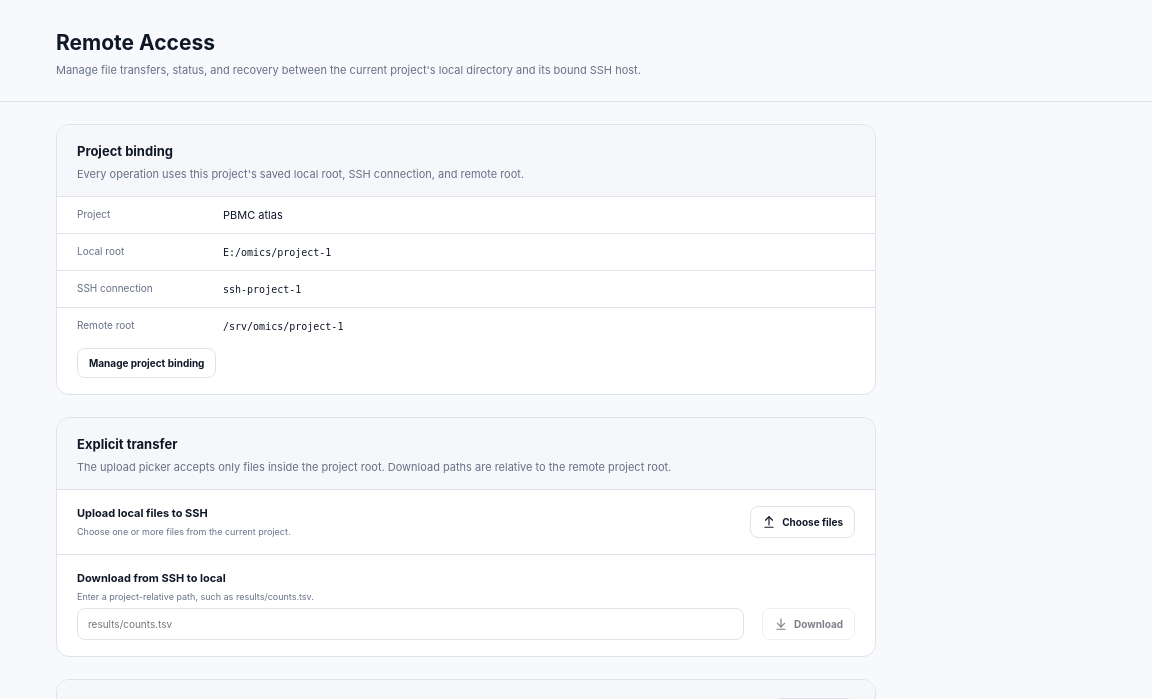
Test: RemoteAccessSettings › passes only the selected project's root and relative paths to upload
Click the button with aria-label "Choose project files to upload" at [803, 522], box [750,506,855,538]
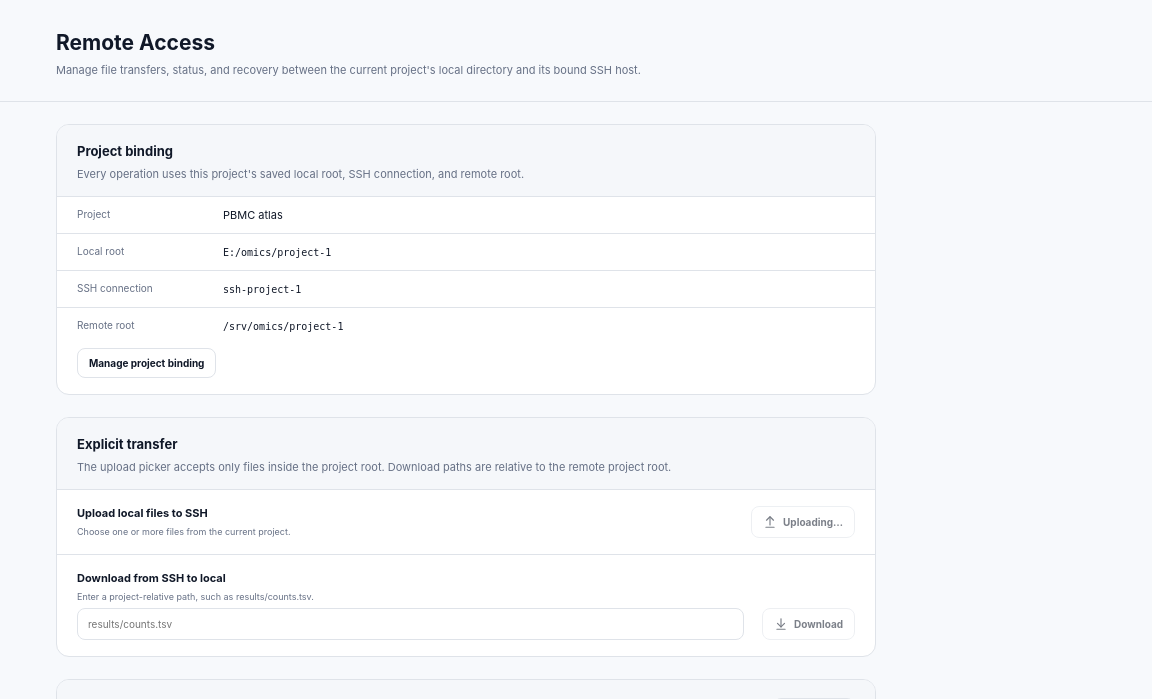
Click the button with aria-label "Choose project files to upload" at [803, 522], box [751,506,855,538]
(page scrolled)
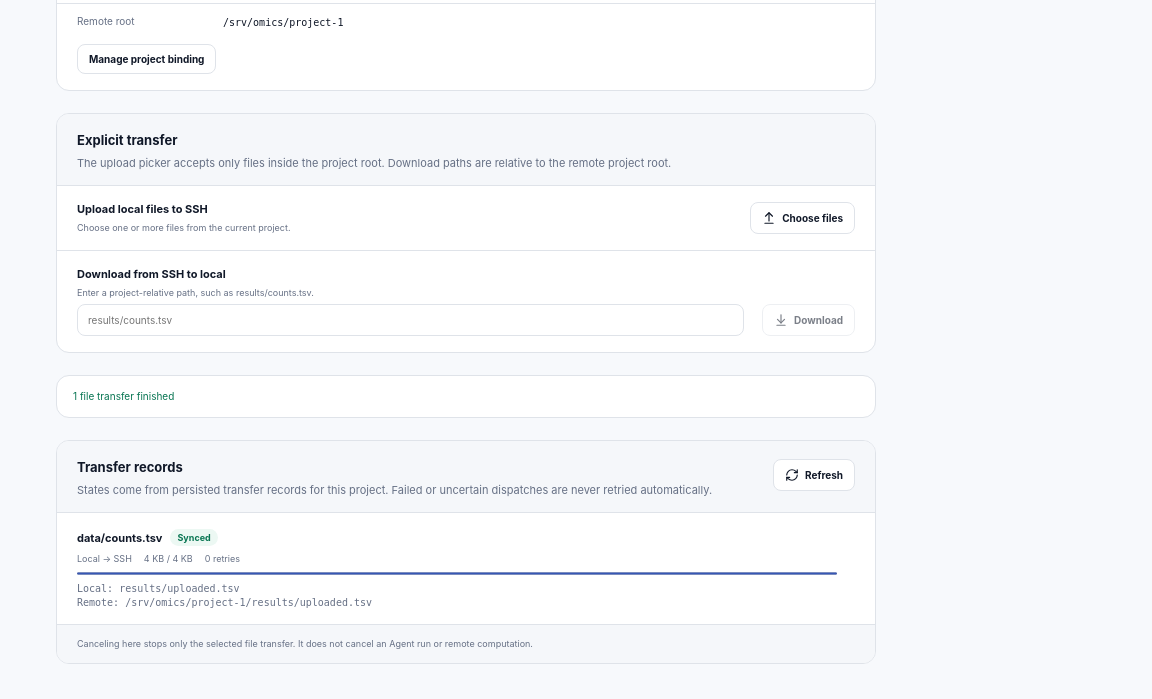
Check: the text "1 file transfer finished" is shown, box [56,375,876,418]
